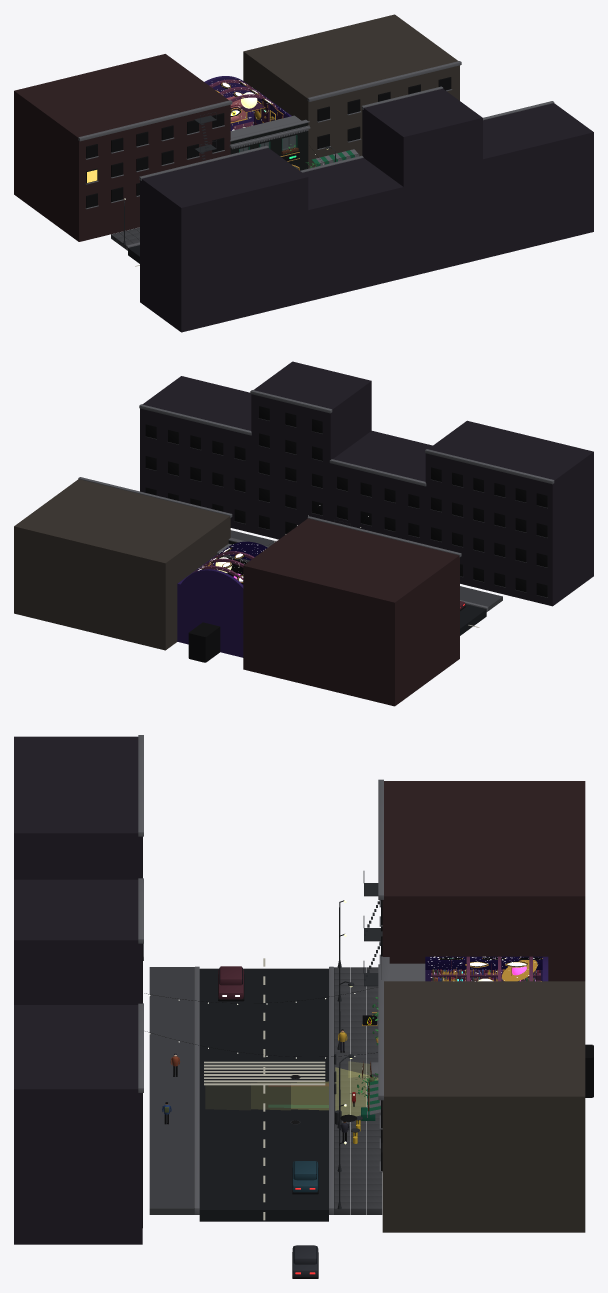
Rendered from shop.glb.
3 renders of one model, top to bottom at view 1: azimuth 30°, elevation 25°; view 2: azimuth 150°, elevation 25°; view 3: azimuth 270°, elevation 25°, orthographic. The views are drawn at different scales.
Visible parts, largest first — view 1: opposite, neighbour_left, neighbour_right, facade_upper, shell, street, vault_ribs; view 2: opposite, neighbour_left, neighbour_right, shell, street, vault_ribs, vault; view 3: opposite, street, neighbour_right, neighbour_left, crossing, light_pools, shell, vault, car_1, street_furniture, car_0, car_2 (+1 smaller).
Boxes of the visible parts, left/top/right/bottom form: opposite: left=139, top=86, right=593, bottom=332; neighbour_left: left=14, top=54, right=232, bottom=241; neighbour_right: left=243, top=14, right=461, bottom=168; facade_upper: left=230, top=119, right=310, bottom=155; shell: left=204, top=76, right=309, bottom=147; street: left=111, top=227, right=139, bottom=266; vault_ribs: left=209, top=79, right=278, bottom=109; opposite: left=139, top=361, right=593, bottom=606; neighbour_left: left=243, top=516, right=461, bottom=706; neighbour_right: left=14, top=477, right=232, bottom=650; shell: left=177, top=544, right=249, bottom=662; street: left=230, top=530, right=502, bottom=635; vault_ribs: left=193, top=551, right=254, bottom=579; vault: left=197, top=541, right=267, bottom=569; opposite: left=14, top=735, right=143, bottom=1244; street: left=149, top=958, right=382, bottom=1221; neighbour_right: left=351, top=980, right=585, bottom=1232; neighbour_left: left=363, top=779, right=585, bottom=986; crossing: left=204, top=1061, right=325, bottom=1085; light_pools: left=268, top=1068, right=377, bottom=1115; shell: left=389, top=956, right=593, bottom=1097; vault: left=425, top=956, right=542, bottom=969; car_1: left=218, top=966, right=244, bottom=1001; street_furniture: left=334, top=981, right=378, bottom=1128; car_0: left=292, top=1161, right=318, bottom=1194; car_2: left=292, top=1245, right=318, bottom=1278.
Size of the model in its own units: 58.18 by 18.1 by 40.6.
